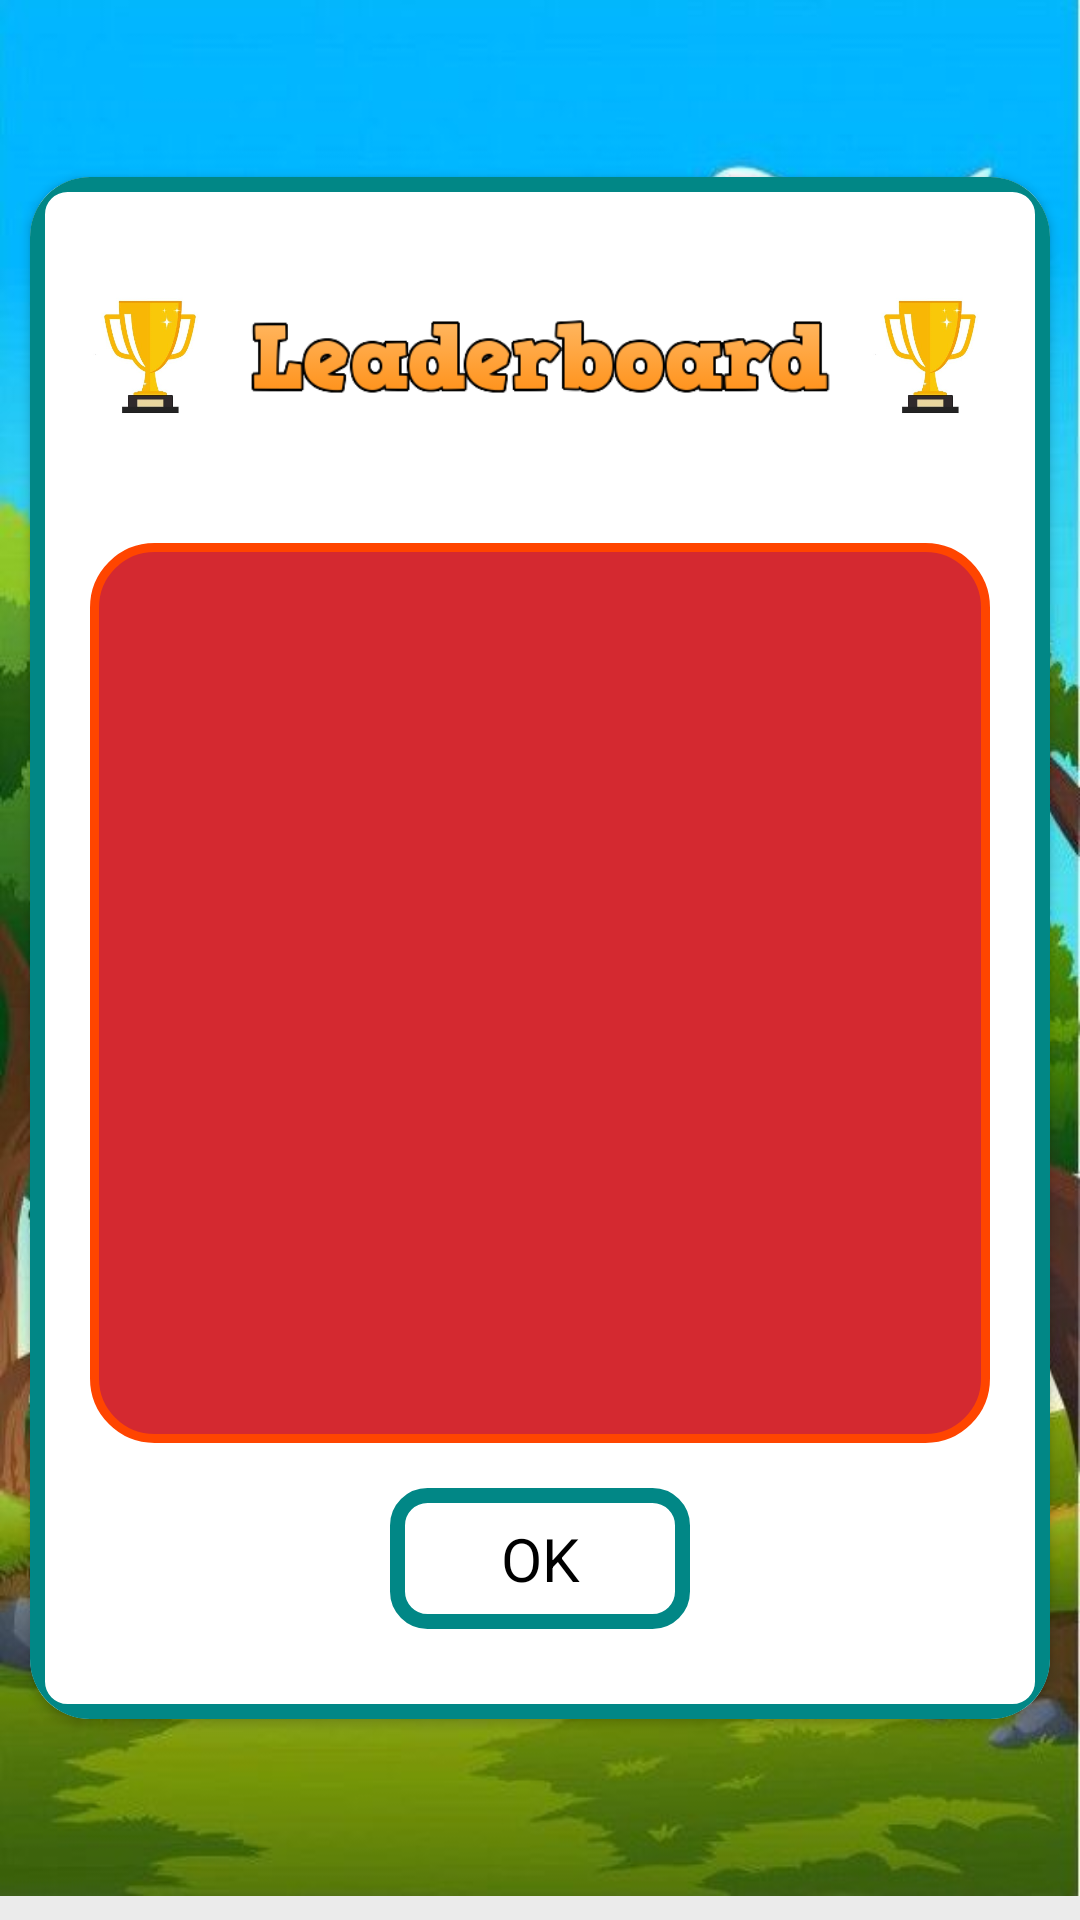

Point at icon controls on the screen. Image size 1080 x 1920, points as (x=x, y=y).
thropy: (x=150, y=356), (x=930, y=356)
